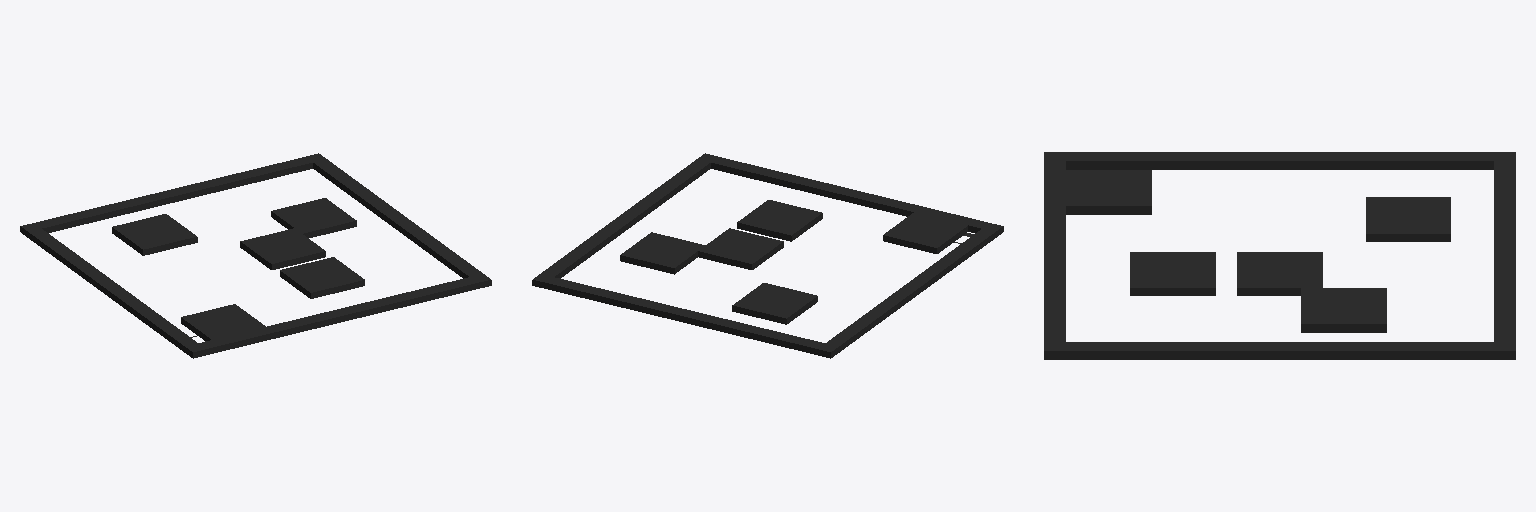
URDF robot description (Room27):
<robot name="Room27">
    <link name="_name">
        <visual> 
            <origin rpy="0.0 0.0 0.0" xyz="-0.4968925198511164 -0.4814248797350581 -0.010000000000000002" />
                <geometry>
                    <mesh filename="Room27/Room27.obj" scale="1 1 0.1" />
                </geometry>

            <material name="black">
                <color rgba="0.2 0.2 0.2 0.95" />
            </material>
        </visual>

       <collision concave="yes" name="collision_0">
            <origin rpy="0.0 0.0 0.0" xyz="-0.4968925198511164 -0.4814248797350581 -0.010000000000000002" />
            <geometry>
                <mesh filename="Room27/Room27_vhacd.obj" scale="1 1 0.1" />
            </geometry>
        </collision>

        <inertial> 
            <mass value="0" />
            <inertia ixx="0" ixy="0" ixz="0" iyy="0" iyz="0" izz="0" />
        </inertial> 
    </link>
</robot>

--- Render facts (derived) ---
Views: 3 orthographic renders of the robot side by side, from view 1: azimuth 30°, elevation 25°; view 2: azimuth 150°, elevation 25°; view 3: azimuth 270°, elevation 25°.
Robot: Room27 — 1 links, 0 joints (none); root link _name; default pose: every joint at zero.
Visible links, largest first — view 1: _name; view 2: _name; view 3: _name.
Link boxes in pixels (left/top/right/bottom): _name: left=20, top=153, right=491, bottom=358; _name: left=532, top=153, right=1003, bottom=358; _name: left=1044, top=152, right=1515, bottom=359.
Size in the robot's own frame: 1 by 1 by 0.02 metres.
1 mesh visuals loaded from 1 distinct referenced files (1 OBJ).